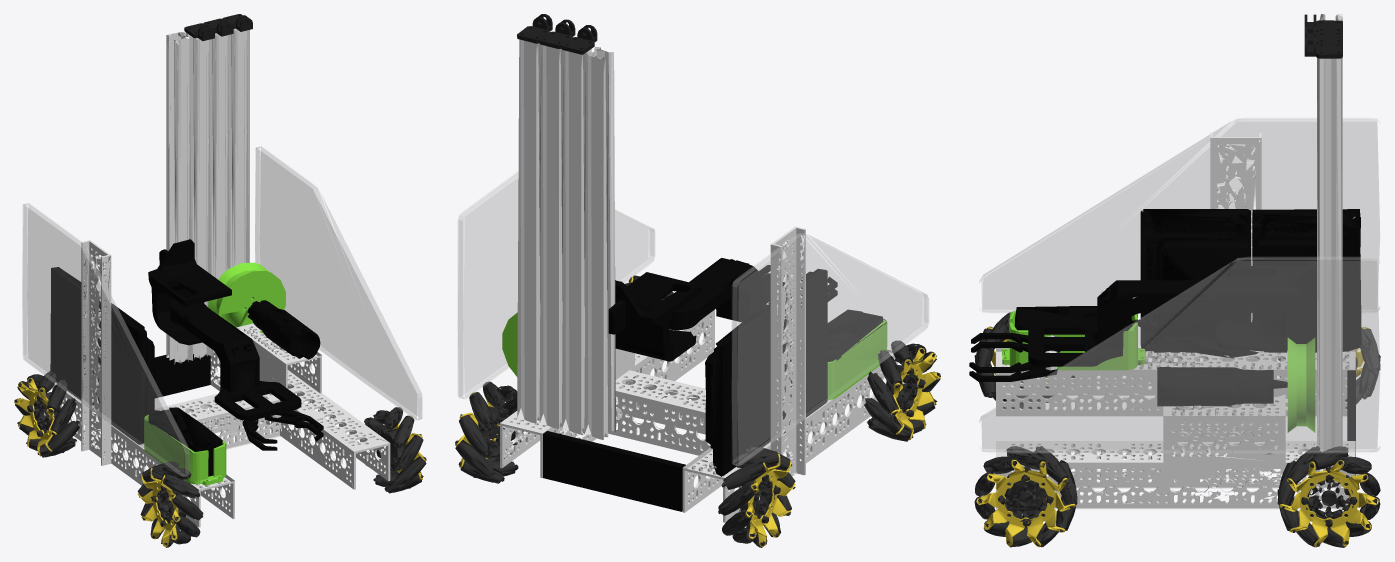
Rendered from robotNou.gltf.
The picture shows the model from 3 angles, left to right: view 1: azimuth 30°, elevation 25°; view 2: azimuth 150°, elevation 25°; view 3: azimuth 270°, elevation 25°; orthographic projection. The views are drawn at different scales.
Parts seen in each view (by area): view 1: Plane, Plane.001, channel baterie, glisiera.003, Gheara-sup, profil 13 gauri, REV-31-1153 v1.001, glisiera.002, glisiera.001, glisiera, Prindere-gh-de-gls, REV-31-1153 v1 (+13 smaller); view 2: Plane, Plane.001, glisiera.003, glisiera.002, glisiera, glisiera.001, REV-31-1153 v1, channel baterie, Plane.023, profil 6 gauri.001, Prindere-gh-de-gls, profil 13 gauri.001 (+14 smaller); view 3: Plane.001, Plane, profil 13 gauri, REV-31-1153 v1.001, profil 13 gauri.001, glisiera, Gheara-sup, REV-31-1153 v1, profil 6 gauri.002, Prindere-gh-de-gls, FL, RL (+14 smaller).
Part boxes in pixels (x1,y1,x2,y2): Plane: (22, 203, 189, 476); Plane.001: (255, 146, 422, 419); channel baterie: (81, 240, 111, 465); glisiera.003: (166, 32, 192, 364); Gheara-sup: (170, 299, 301, 420); profil 13 gauri: (210, 349, 390, 489); REV-31-1153 v1.001: (95, 301, 154, 444); glisiera.002: (185, 32, 211, 359); glisiera.001: (212, 33, 230, 355); glisiera: (231, 28, 249, 267); Prindere-gh-de-gls: (148, 239, 231, 345); REV-31-1153 v1: (50, 267, 94, 404); Plane: (732, 233, 928, 465); Plane.001: (458, 171, 654, 398); glisiera.003: (584, 47, 615, 439); glisiera.002: (562, 49, 591, 434); glisiera: (517, 39, 541, 423); glisiera.001: (539, 45, 563, 429); REV-31-1153 v1: (705, 309, 770, 476); channel baterie: (770, 226, 805, 476); Plane.023: (543, 431, 685, 511); profil 6 gauri.001: (608, 370, 710, 455); Prindere-gh-de-gls: (608, 272, 701, 361); profil 13 gauri.001: (682, 349, 897, 522); Plane.001: (979, 257, 1379, 452); Plane: (979, 117, 1379, 313); profil 13 gauri: (996, 441, 1355, 509); REV-31-1153 v1.001: (1140, 209, 1250, 352); profil 13 gauri.001: (996, 348, 1355, 416); glisiera: (1317, 58, 1342, 451); Gheara-sup: (1028, 280, 1260, 366); REV-31-1153 v1: (1252, 209, 1361, 352); profil 6 gauri.002: (1163, 394, 1285, 462); Prindere-gh-de-gls: (1216, 257, 1316, 350); FL: (974, 446, 1077, 547); RL: (1277, 446, 1380, 547).
Bounding box in the file's own units: 20.84 × 31.21 × 24.01.
